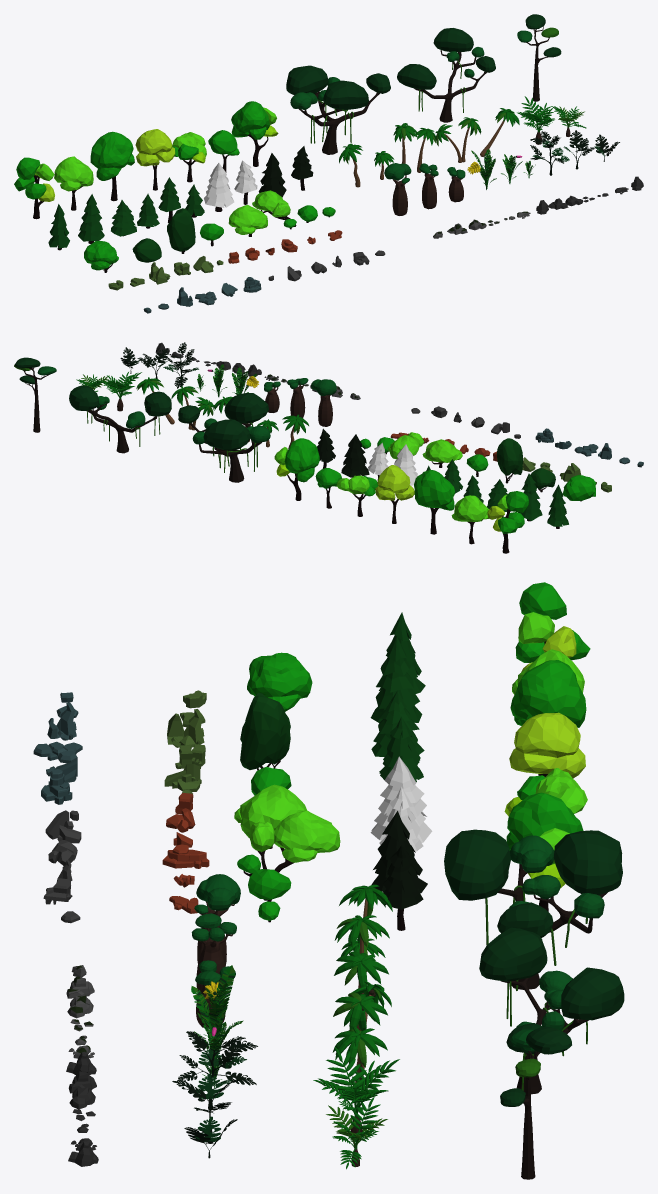
The model's file is LOW_POLY_set.obj.
3 renders of one model, top to bottom at view 1: azimuth 30°, elevation 25°; view 2: azimuth 150°, elevation 25°; view 3: azimuth 270°, elevation 25°, orthographic. The views are drawn at different scales.
Visible parts, largest first — view 1: tree_1_Cube.029, tree_2_Cube.028, tree3_Icosphere.003_tree3_Icosphere.010, tree4_Icosphere.002, tree_3_Cube.001, tree3_Icosphere.006_tree3_Icosphere.012, tree2_Icosphere.004, tree6_Icosphere.009, conifer7_Cylinder.002, tree_4_Cube.033, tree2_Icosphere.006, conifer2_Cylinder.001 (+17 smaller); view 2: tree_1_Cube.029, tree_2_Cube.028, tree3_Icosphere.003_tree3_Icosphere.010, tree3_Icosphere.006_tree3_Icosphere.012, tree4_Icosphere.002, tree_3_Cube.001, tree6_Icosphere.009, tree2_Icosphere.004, tree_4_Cube.033, conifer1_Cylinder.003, tree3_Icosphere.007_tree3_Icosphere.013, tree2_Icosphere.006 (+20 smaller); view 3: tree_1_Cube.029, tree_2_Cube.028, tree4_Icosphere.002, tree3_Icosphere.003_tree3_Icosphere.010, tree_3_Cube.001, tree6_Icosphere.009, tree3_Icosphere.007_tree3_Icosphere.013, tree2_Icosphere.007, tree3_Icosphere.006_tree3_Icosphere.012, palm_7_Cube.031, conifer2_Cylinder.001, tree2_Icosphere.006 (+23 smaller).
Boxes of the visible parts, bbox=[...] form: tree_1_Cube.029: bbox=[286, 65, 390, 154]; tree_2_Cube.028: bbox=[397, 28, 495, 122]; tree3_Icosphere.003_tree3_Icosphere.010: bbox=[90, 131, 134, 180]; tree4_Icosphere.002: bbox=[135, 129, 175, 166]; tree_3_Cube.001: bbox=[517, 14, 561, 101]; tree3_Icosphere.006_tree3_Icosphere.012: bbox=[231, 101, 269, 139]; tree2_Icosphere.004: bbox=[54, 156, 93, 191]; tree6_Icosphere.009: bbox=[167, 208, 195, 251]; conifer7_Cylinder.002: bbox=[204, 163, 234, 211]; tree_4_Cube.033: bbox=[384, 163, 411, 215]; tree2_Icosphere.006: bbox=[228, 205, 267, 234]; conifer2_Cylinder.001: bbox=[78, 194, 104, 243]; tree_1_Cube.029: bbox=[178, 393, 270, 482]; tree_2_Cube.028: bbox=[69, 385, 171, 453]; tree3_Icosphere.003_tree3_Icosphere.010: bbox=[414, 470, 454, 510]; tree3_Icosphere.006_tree3_Icosphere.012: bbox=[284, 438, 319, 482]; tree4_Icosphere.002: bbox=[375, 465, 414, 500]; tree_3_Cube.001: bbox=[14, 357, 56, 432]; tree6_Icosphere.009: bbox=[496, 438, 522, 475]; tree2_Icosphere.004: bbox=[451, 495, 489, 521]; tree_4_Cube.033: bbox=[311, 379, 336, 426]; conifer1_Cylinder.003: bbox=[341, 434, 369, 477]; tree3_Icosphere.007_tree3_Icosphere.013: bbox=[563, 475, 595, 500]; tree2_Icosphere.006: bbox=[422, 439, 462, 462]; tree_1_Cube.029: bbox=[444, 829, 622, 990]; tree_2_Cube.028: bbox=[479, 927, 624, 1094]; tree4_Icosphere.002: bbox=[509, 712, 585, 778]; tree3_Icosphere.003_tree3_Icosphere.010: bbox=[510, 660, 586, 727]; tree_3_Cube.001: bbox=[500, 1026, 571, 1179]; tree6_Icosphere.009: bbox=[240, 693, 290, 769]; tree3_Icosphere.007_tree3_Icosphere.013: bbox=[247, 652, 312, 711]; tree2_Icosphere.007: bbox=[274, 810, 340, 862]; tree3_Icosphere.006_tree3_Icosphere.012: bbox=[506, 792, 583, 850]; palm_7_Cube.031: bbox=[313, 1047, 399, 1140]; conifer2_Cylinder.001: bbox=[370, 637, 422, 722]; tree2_Icosphere.006: bbox=[234, 784, 306, 837].
Size of the model in its own units: 181 by 25.42 by 88.75.
